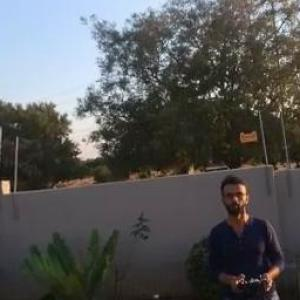follow: (205, 168, 294, 298)
